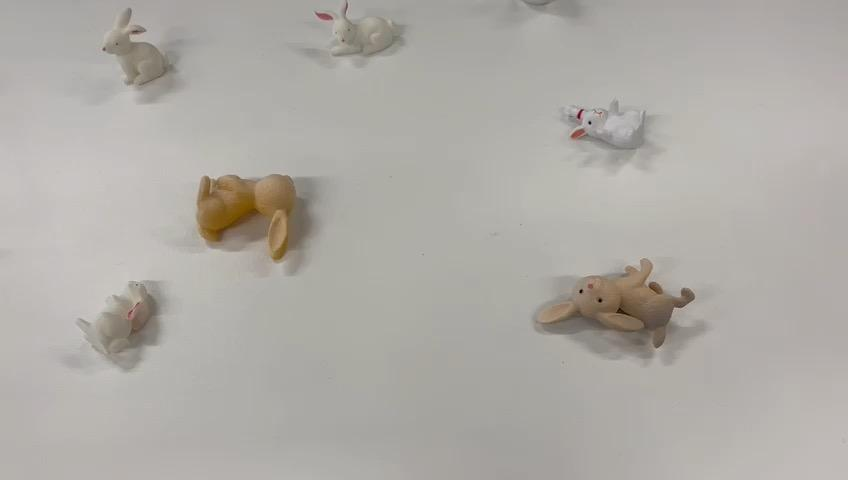pet: (488, 258, 690, 356), (188, 160, 337, 273), (93, 3, 209, 112), (76, 258, 155, 382), (573, 95, 681, 174), (308, 0, 408, 75)
